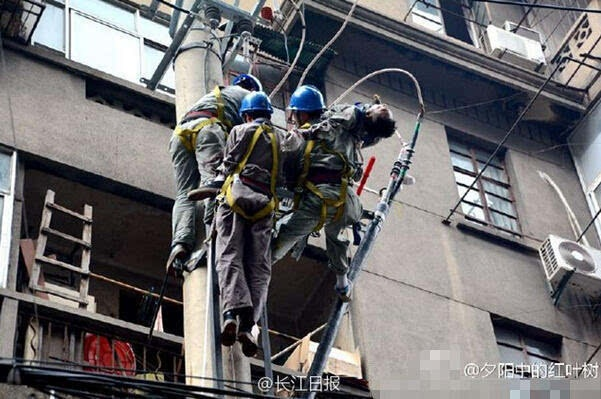blue: (287, 84, 326, 127), (240, 89, 275, 124)
